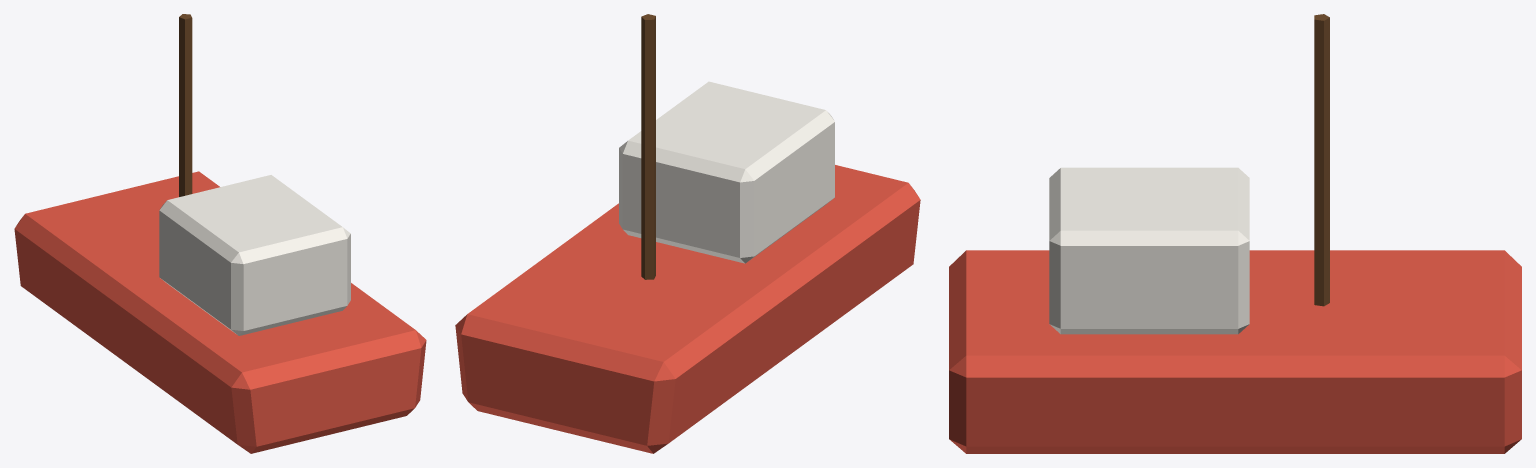
File: boat.glb
3 views of the same model, side by side, from view 1: azimuth 30°, elevation 25°; view 2: azimuth 150°, elevation 25°; view 3: azimuth 270°, elevation 25° (orthographic). The views are drawn at different scales.
Visible parts, largest first — view 1: boat; view 2: boat; view 3: boat.
Boxes of the visible parts, bbox=[...] form: boat: bbox=[14, 14, 426, 453]; boat: bbox=[455, 14, 920, 453]; boat: bbox=[949, 14, 1521, 453].
Bounding box in the file's own units: 0.9766 × 1.5 × 2.
1 material, 1 textured.
